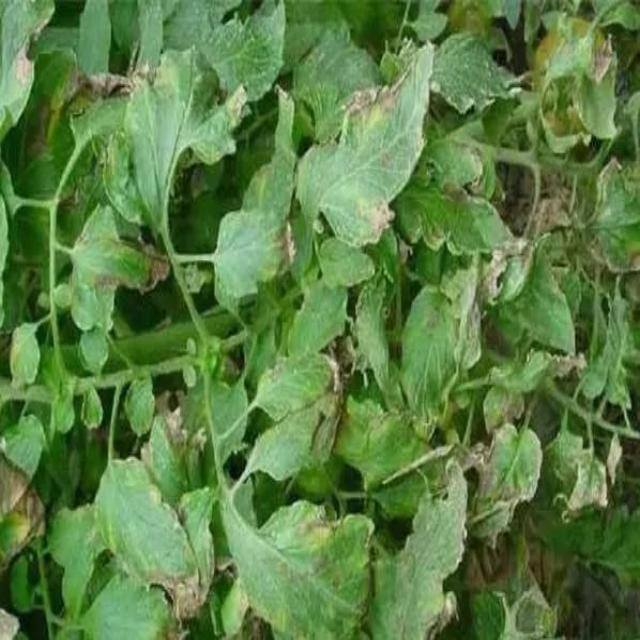Early_blight: (431, 436, 544, 554), (452, 233, 535, 366), (310, 326, 363, 460), (564, 433, 623, 521), (1, 451, 44, 571), (150, 564, 211, 640), (57, 58, 153, 105), (337, 70, 407, 121), (439, 139, 491, 207), (156, 389, 208, 456), (464, 526, 511, 591), (132, 238, 172, 299), (416, 585, 458, 640), (479, 387, 527, 435), (298, 509, 348, 550), (583, 32, 616, 87), (545, 346, 589, 384), (12, 26, 39, 87), (363, 196, 396, 239), (274, 221, 301, 266)
